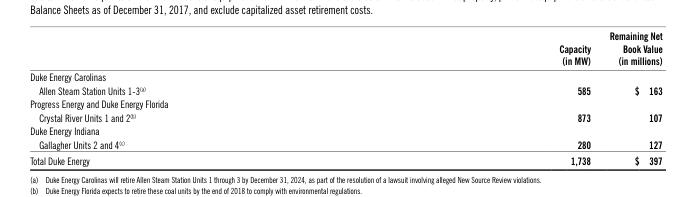table: (29, 29, 661, 166)
table column: (29, 29, 351, 166), (351, 29, 599, 166), (599, 29, 661, 166)
table column header: (29, 29, 661, 68)
table projected row header: (29, 68, 661, 83), (29, 96, 661, 110), (29, 123, 661, 137)
table row: (29, 29, 661, 68), (29, 68, 661, 83), (29, 137, 661, 152), (29, 96, 661, 110), (29, 123, 661, 137), (29, 152, 661, 166), (29, 83, 661, 96), (29, 110, 661, 123)
